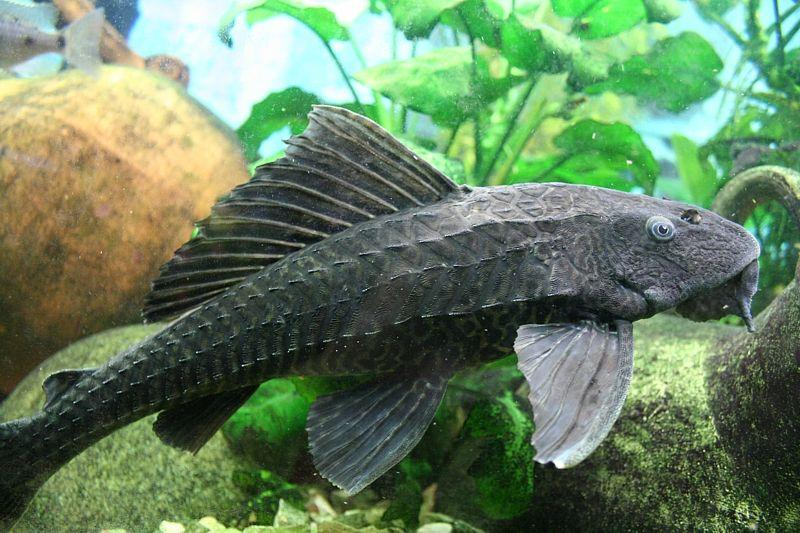Janitor Fish: (3, 106, 762, 527)
